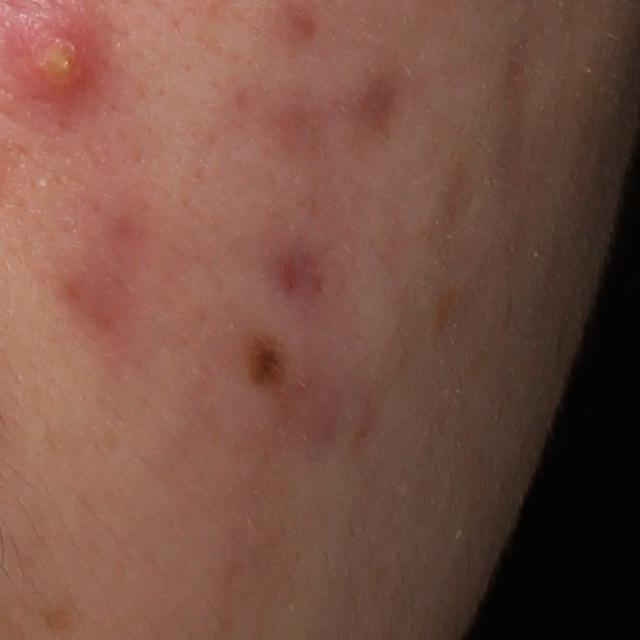pustule: (13, 14, 110, 113)
